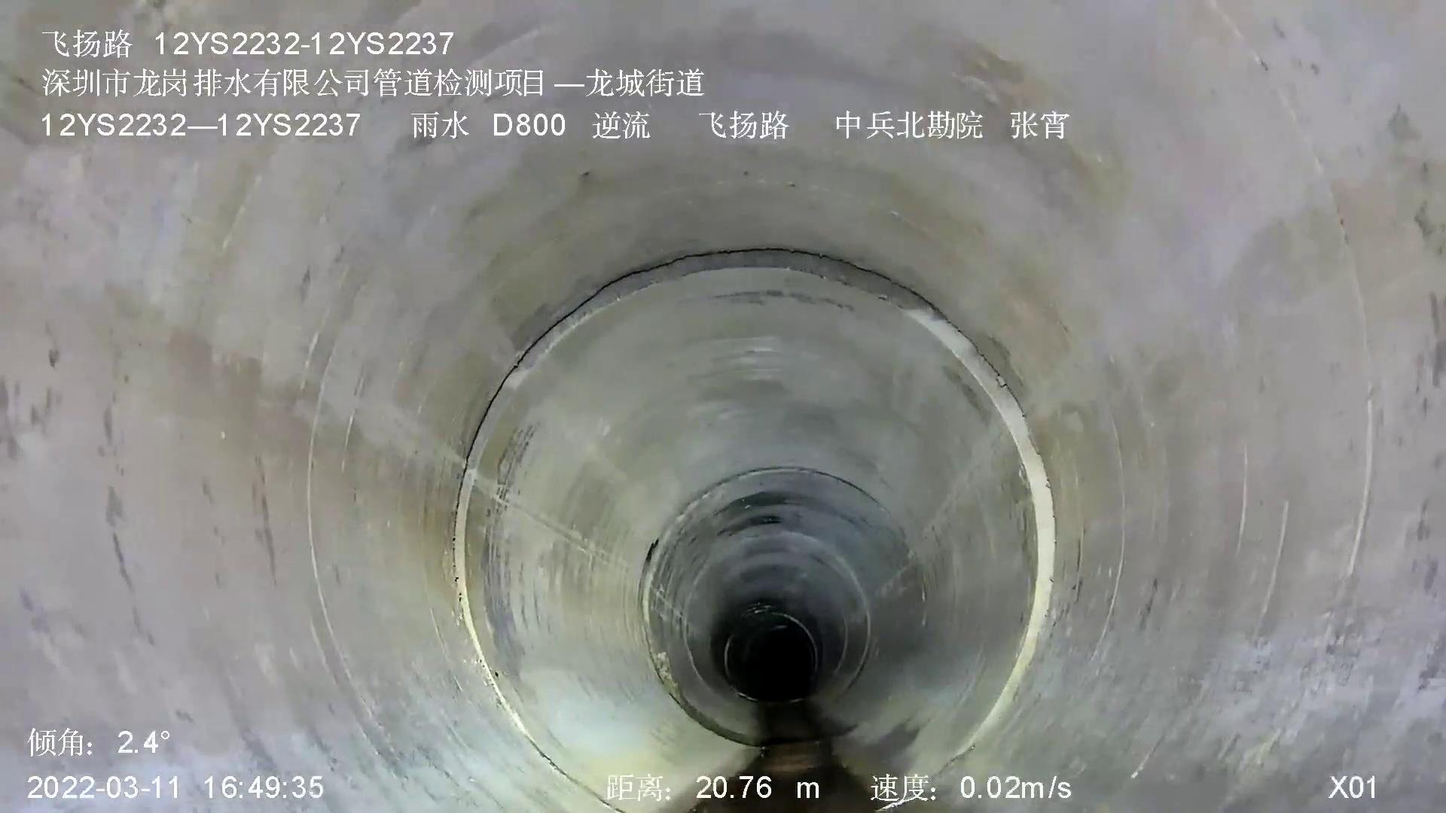CKTJ: (453, 248, 1056, 787), (639, 465, 902, 750)
